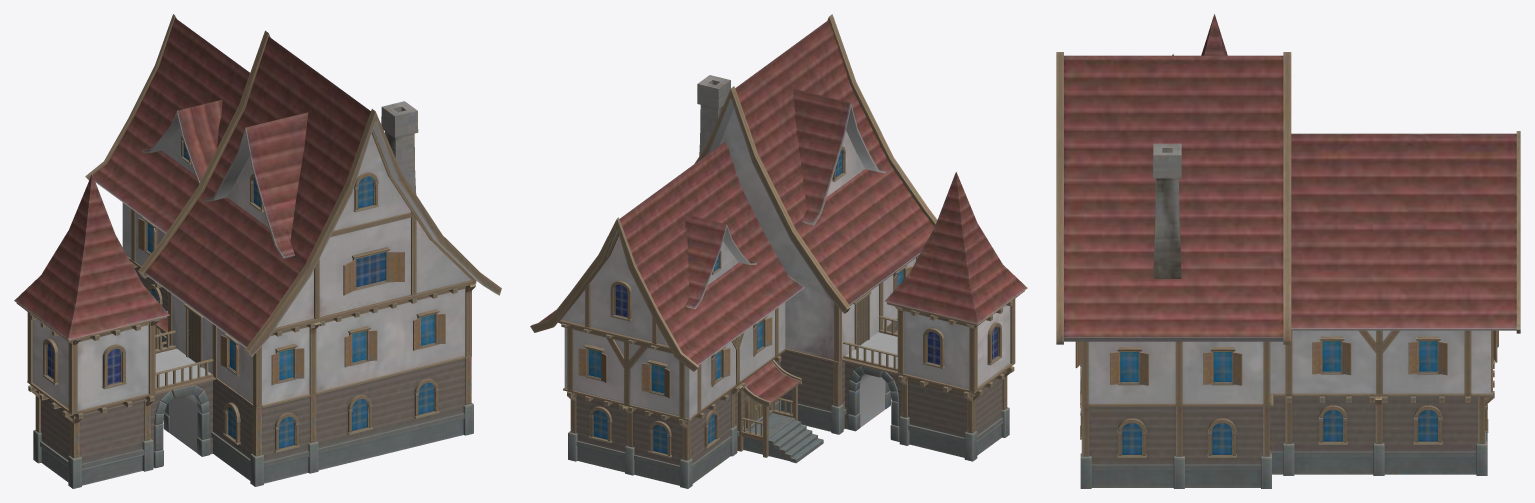
Rendered from casa_solar.glb.
3 views of the same model, side by side, from view 1: azimuth 30°, elevation 25°; view 2: azimuth 150°, elevation 25°; view 3: azimuth 270°, elevation 25° (orthographic). The views are drawn at different scales.
Parts seen in each view (by area): view 1: SM_House; view 2: SM_House; view 3: SM_House.
Boxes of the visible parts, x1,y1,x2,y2 form: SM_House: (14, 14, 501, 488); SM_House: (530, 14, 1027, 488); SM_House: (1056, 14, 1520, 488).
Size of the model in its own units: 15.4 by 13.63 by 15.09.
1 material, 1 textured.
